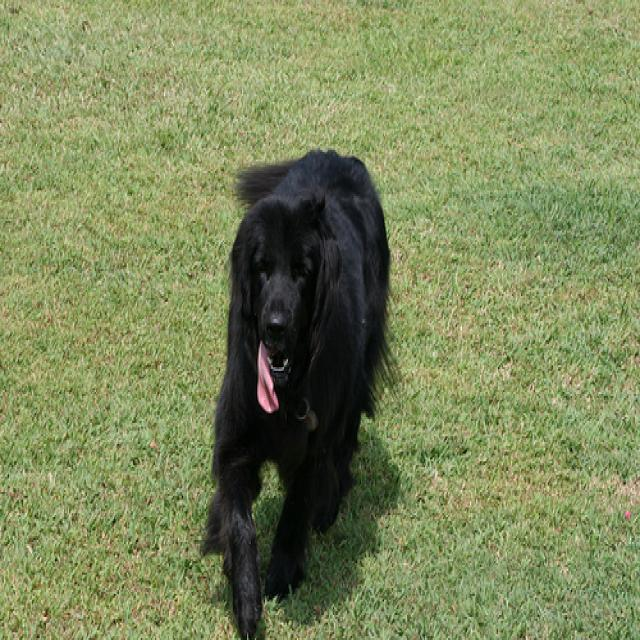dog: (226, 192, 338, 411)
